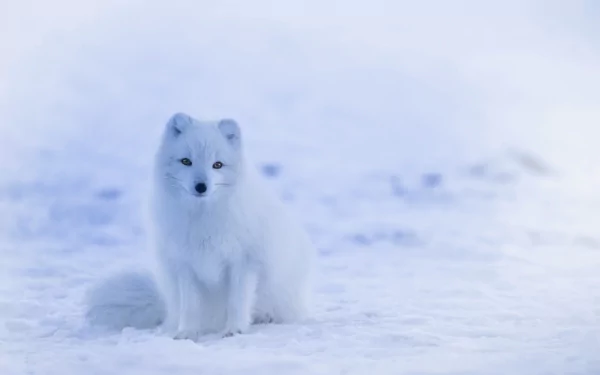arcticfox: (171, 136, 236, 210)
